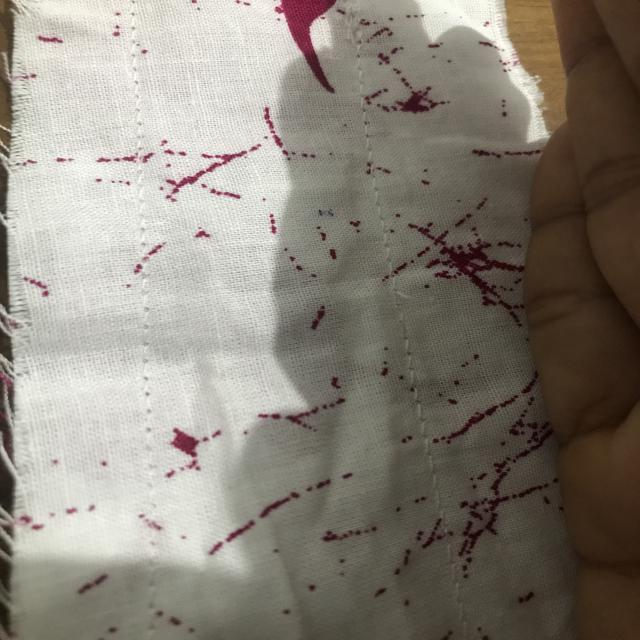Broken: (377, 281, 430, 335)
